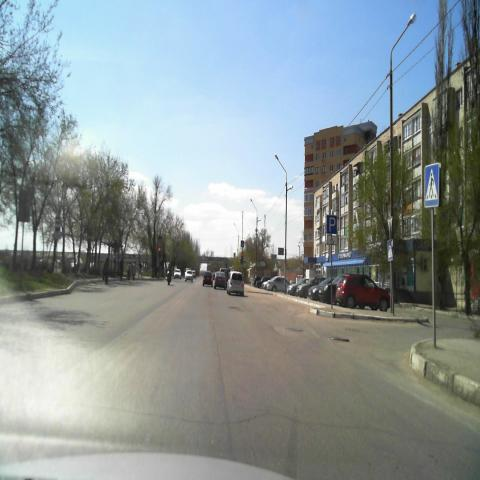5_19_1: (424, 162, 440, 208), (387, 239, 393, 261)
6_4: (326, 214, 337, 232)
8_17: (326, 235, 338, 245)
